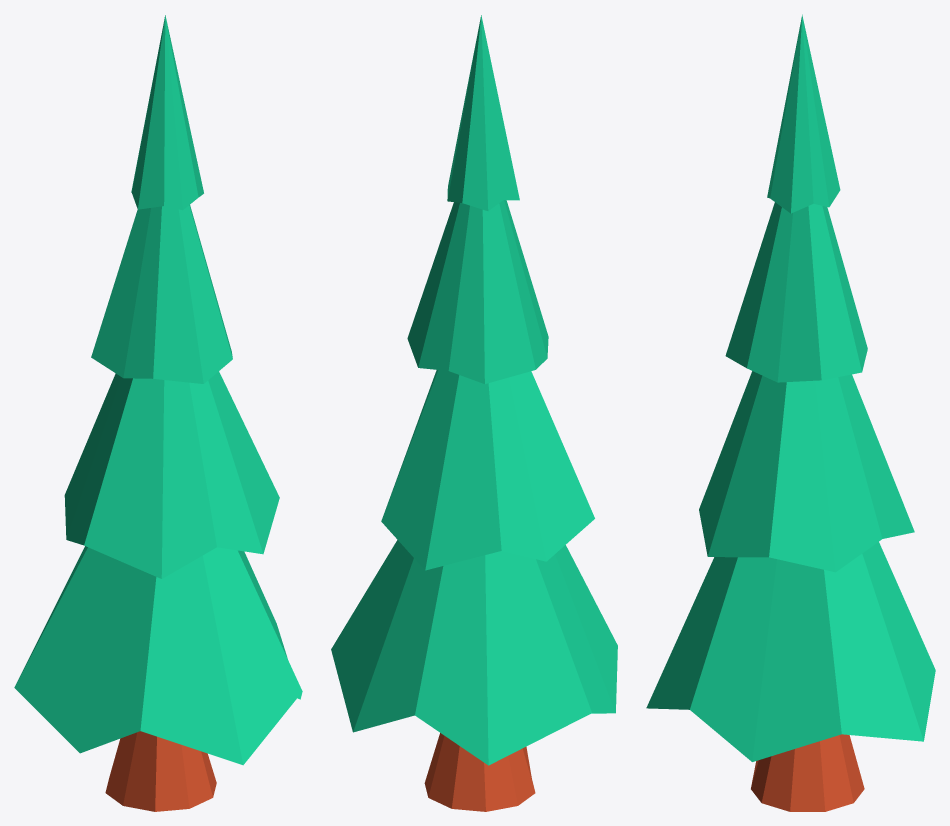
The model's file is Tree.fbx.
The picture shows the model from 3 angles, left to right: view 1: azimuth 30°, elevation 25°; view 2: azimuth 150°, elevation 25°; view 3: azimuth 270°, elevation 25°; orthographic projection.
Parts seen in each view (by area): view 1: Cylinder, Cylinder.001; view 2: Cylinder, Cylinder.001; view 3: Cylinder, Cylinder.001.
Part boxes in pixels (<box>): Cylinder: <box>14,15,302,765</box>; Cylinder.001: <box>105,731,216,811</box>; Cylinder: <box>331,15,617,765</box>; Cylinder.001: <box>424,733,535,811</box>; Cylinder: <box>646,14,935,761</box>; Cylinder.001: <box>751,734,864,811</box>.
Bounding box in the file's own units: 532 × 1502 × 508.
